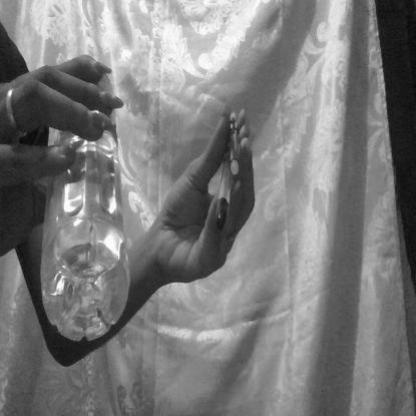Plastic Bottle: (30, 27, 153, 376)
